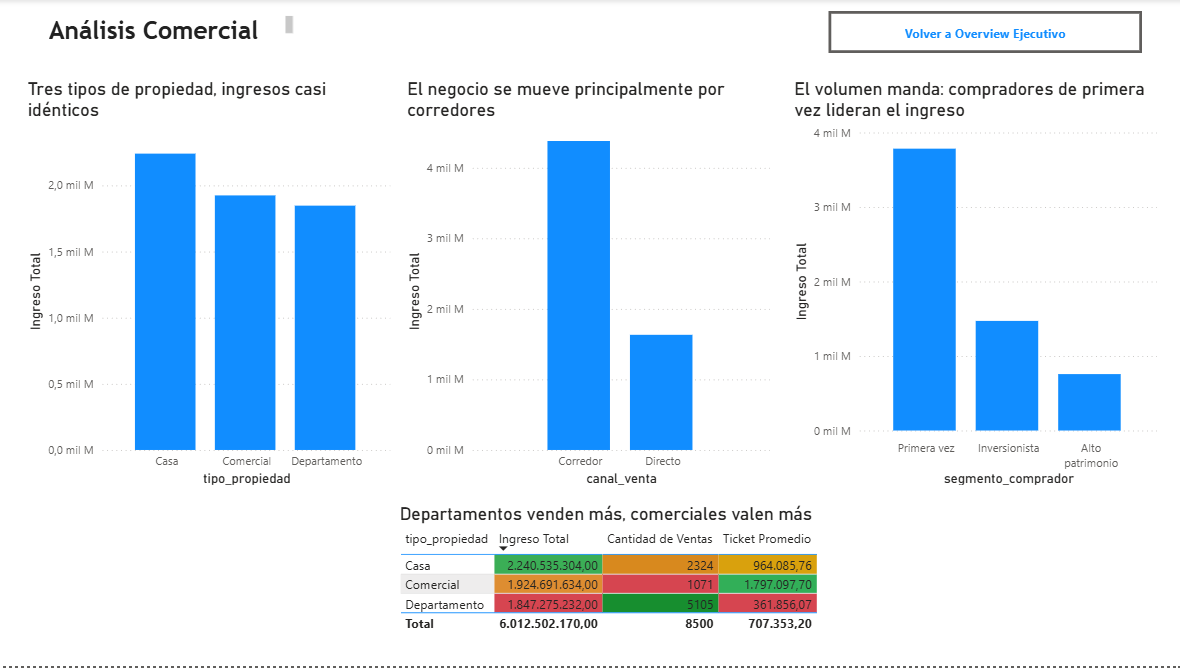

The dashboard page shown, as its layout file describes it:
{"tool":"powerbi","page":{"name":"Análisis Comercial","canvas":[1280,720],"ordinal":1},"visuals":[{"type":"clusteredColumnChart","title":"Tres tipos de propiedad, ingresos casi idénticos","fields":{"Category":["hecho_ventas_propiedades.tipo_propiedad"],"Y":["hecho_ventas_propiedades.Ingreso Total"]},"box":[25.9,85.4,401.6,443.7],"z":0},{"type":"clusteredColumnChart","title":"El negocio se mueve principalmente por corredores","fields":{"Category":["hecho_ventas_propiedades.canal_venta"],"Y":["hecho_ventas_propiedades.Ingreso Total"]},"box":[435.6,85.8,401.6,443.7],"z":1000},{"type":"clusteredColumnChart","title":"El volumen manda: compradores de primera vez lideran el ingreso","fields":{"Category":["dim_clientes.segmento_comprador"],"Y":["hecho_ventas_propiedades.Ingreso Total"]},"box":[853.3,85.4,401.6,443.7],"z":2000},{"type":"tableEx","title":"Departamentos venden más, comerciales valen más","fields":{"Values":["hecho_ventas_propiedades.tipo_propiedad","hecho_ventas_propiedades.Ingreso Total","hecho_ventas_propiedades.Cantidad de Ventas","hecho_ventas_propiedades.Ticket Promedio"]},"box":[427.5,544.1,489,153.8],"z":3000},{"type":"textbox","box":[48.6,13,273.6,45.3],"z":4000},{"type":"actionButton","box":[895.4,13,338.4,45.3],"z":5000}]}

Visuals, with their boxes in screenshot pixels (x1, y1, x2, y2), scaled from the page's 1280x720 canvas onto the 1180x670 screenshot:
"Tres tipos de propiedad, ingresos casi idénticos" clusteredColumnChart: {"left": 24, "top": 79, "right": 394, "bottom": 492}
"El negocio se mueve principalmente por corredores" clusteredColumnChart: {"left": 402, "top": 80, "right": 772, "bottom": 493}
"El volumen manda: compradores de primera vez lideran el ingreso" clusteredColumnChart: {"left": 787, "top": 79, "right": 1157, "bottom": 492}
"Departamentos venden más, comerciales valen más" tableEx: {"left": 394, "top": 506, "right": 845, "bottom": 649}
textbox: {"left": 45, "top": 12, "right": 297, "bottom": 54}
actionButton: {"left": 825, "top": 12, "right": 1137, "bottom": 54}
